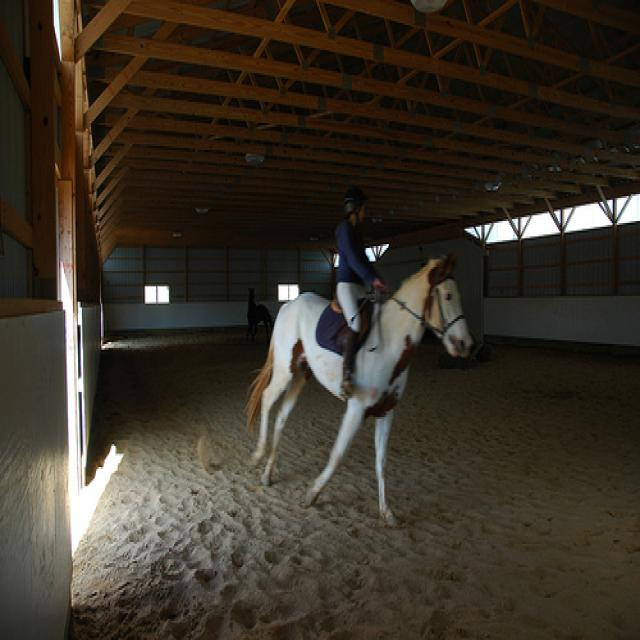horse: (242, 247, 479, 530), (244, 280, 276, 343)
person: (331, 182, 390, 399)
